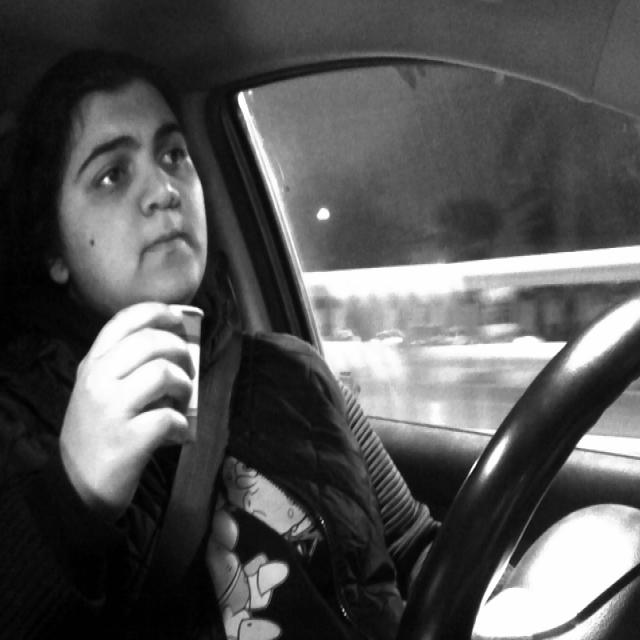drinking: (130, 295, 202, 442)
